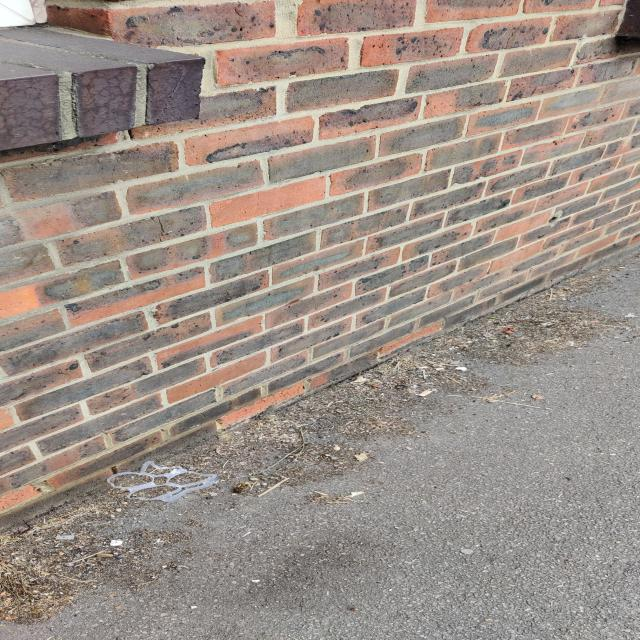litter: (83, 448, 243, 504)
